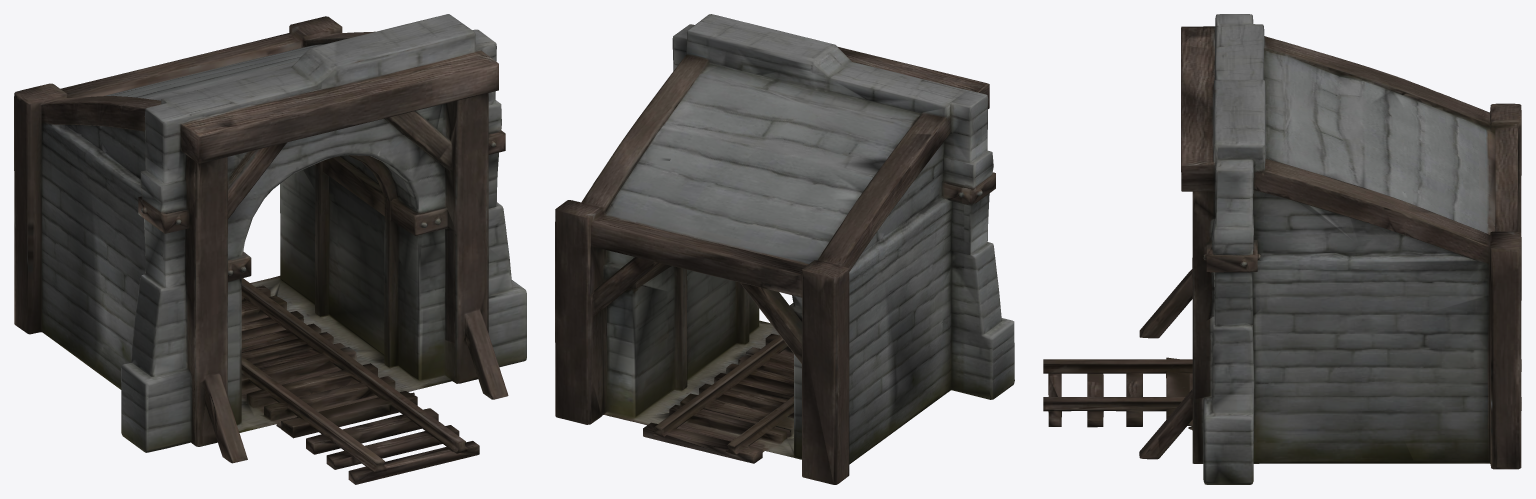
File: EntradaMina.glb
3 views of the same model, side by side, from view 1: azimuth 30°, elevation 25°; view 2: azimuth 150°, elevation 25°; view 3: azimuth 270°, elevation 25° (orthographic). The views are drawn at different scales.
Visible parts, largest first — view 1: node_0; view 2: node_0; view 3: node_0.
Boxes of the visible parts, bbox=[...] form: node_0: bbox=[14, 14, 526, 484]; node_0: bbox=[555, 14, 1014, 484]; node_0: bbox=[1043, 14, 1521, 484].
Size of the model in its own units: 0.7368 by 0.6249 by 0.8415.
1 material, 1 textured.
